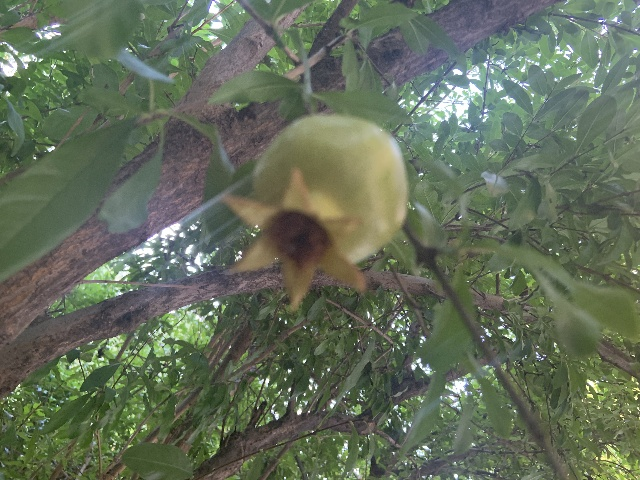mid-growth: (221, 112, 410, 312)
